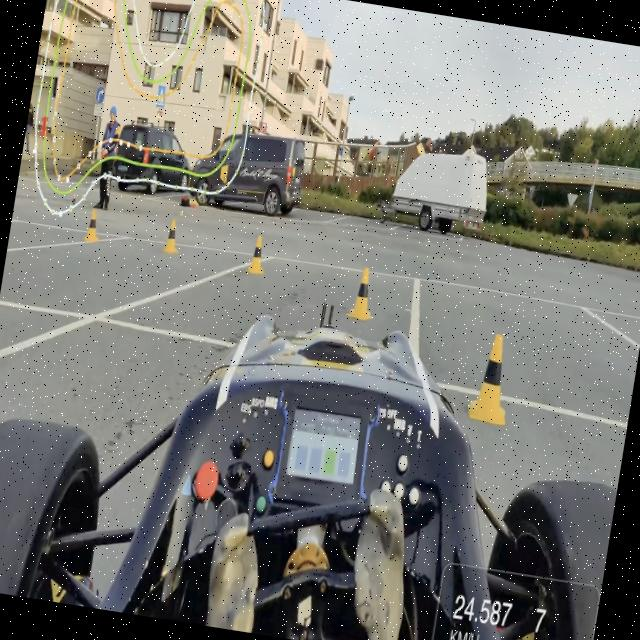yellow_cone: (462, 325, 524, 427), (346, 263, 382, 323), (247, 232, 270, 277), (82, 204, 104, 246), (162, 216, 184, 256)
